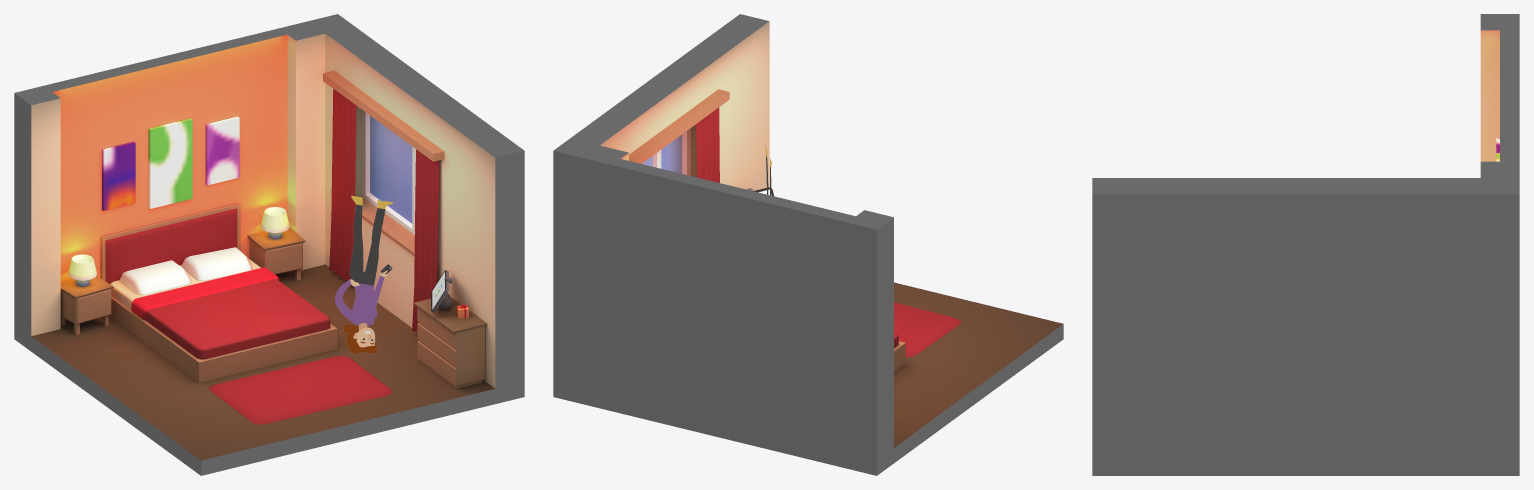
File: SBRO_Rooms_GEO_Bedroom.glb
The picture shows the model from 3 angles, left to right: view 1: azimuth 30°, elevation 25°; view 2: azimuth 150°, elevation 25°; view 3: azimuth 270°, elevation 25°; orthographic projection. The views are drawn at different scales.
Parts seen in each view (by area): view 1: Plane.007, Plane.008, Plane.011, Plane.021, Plane.012, Bedroom_Character, Plane.009, Plane.010, SberPortal; view 2: Plane.007, Plane.008, Plane.021; view 3: Plane.007.
Part boxes in pixels (x1,y1,x2,y2): Plane.007: (14,14,524,475); Plane.008: (100,203,392,424); Plane.011: (102,116,239,210); Plane.021: (329,89,439,331); Plane.012: (413,297,487,388); Bedroom_Character: (335,195,392,353); Plane.009: (60,254,113,335); Plane.010: (247,207,305,280); SberPortal: (431,270,453,312); Plane.007: (553,14,1063,475); Plane.008: (894,302,961,371); Plane.021: (696,107,719,182); Plane.007: (1092,14,1519,475).
Size of the model in its own units: 4.4 by 3.2 by 4.4.
4 materials, 3 textured.
